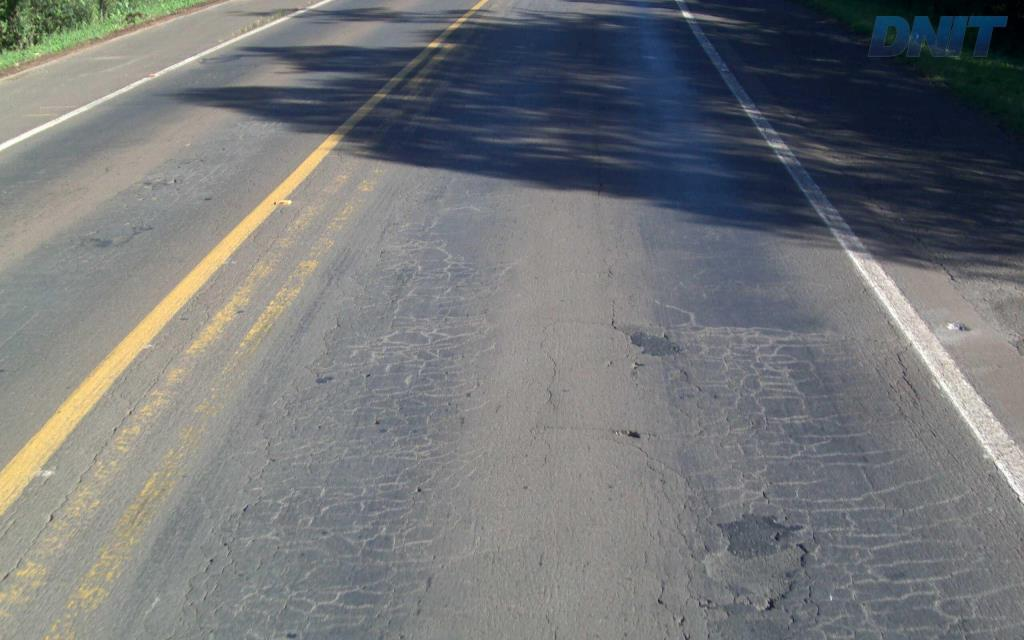pothole: (692, 521, 811, 615), (613, 425, 646, 440)
